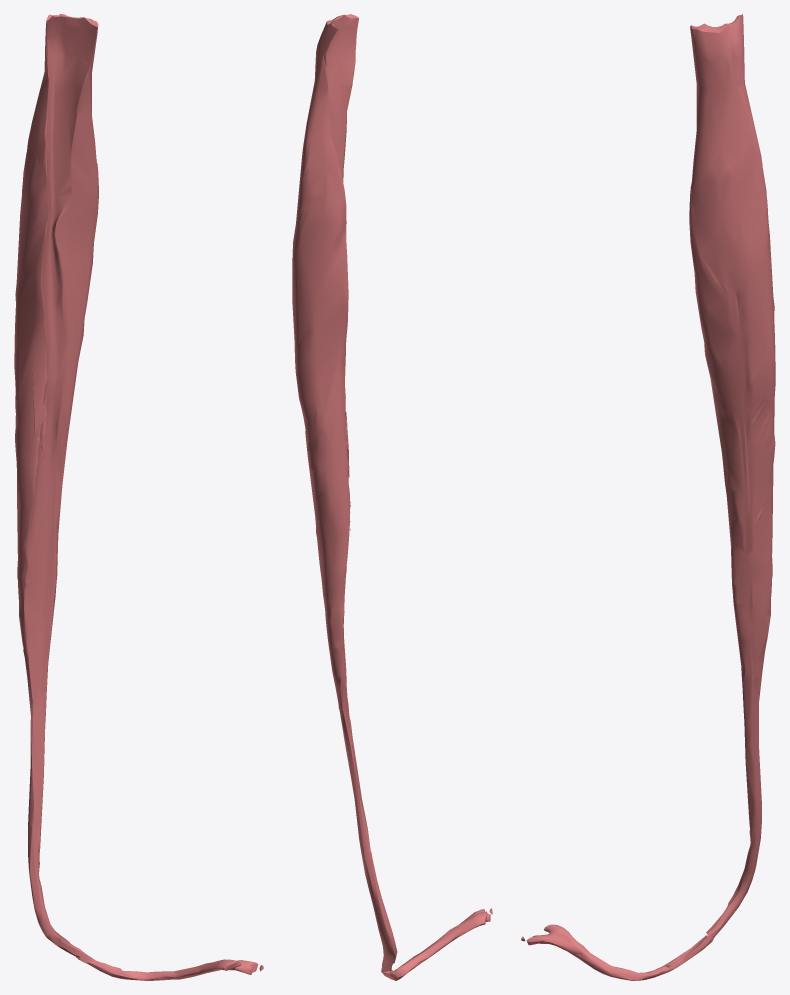
3 views of the same model, side by side, from view 1: azimuth 90°, elevation 25°; view 2: azimuth 150°, elevation 25°; view 3: azimuth 270°, elevation 25° (orthographic). The views are drawn at different scales.
Parts seen in each view (by area): view 1: FJ1410M; view 2: FJ1410M; view 3: FJ1410M.
Part boxes in pixels (x1,y1,x2,y2): FJ1410M: (14,14,263,980); FJ1410M: (292,14,492,980); FJ1410M: (521,14,775,980).
Size of the model in its own units: 0.0438 by 0.4024 by 0.0952.
